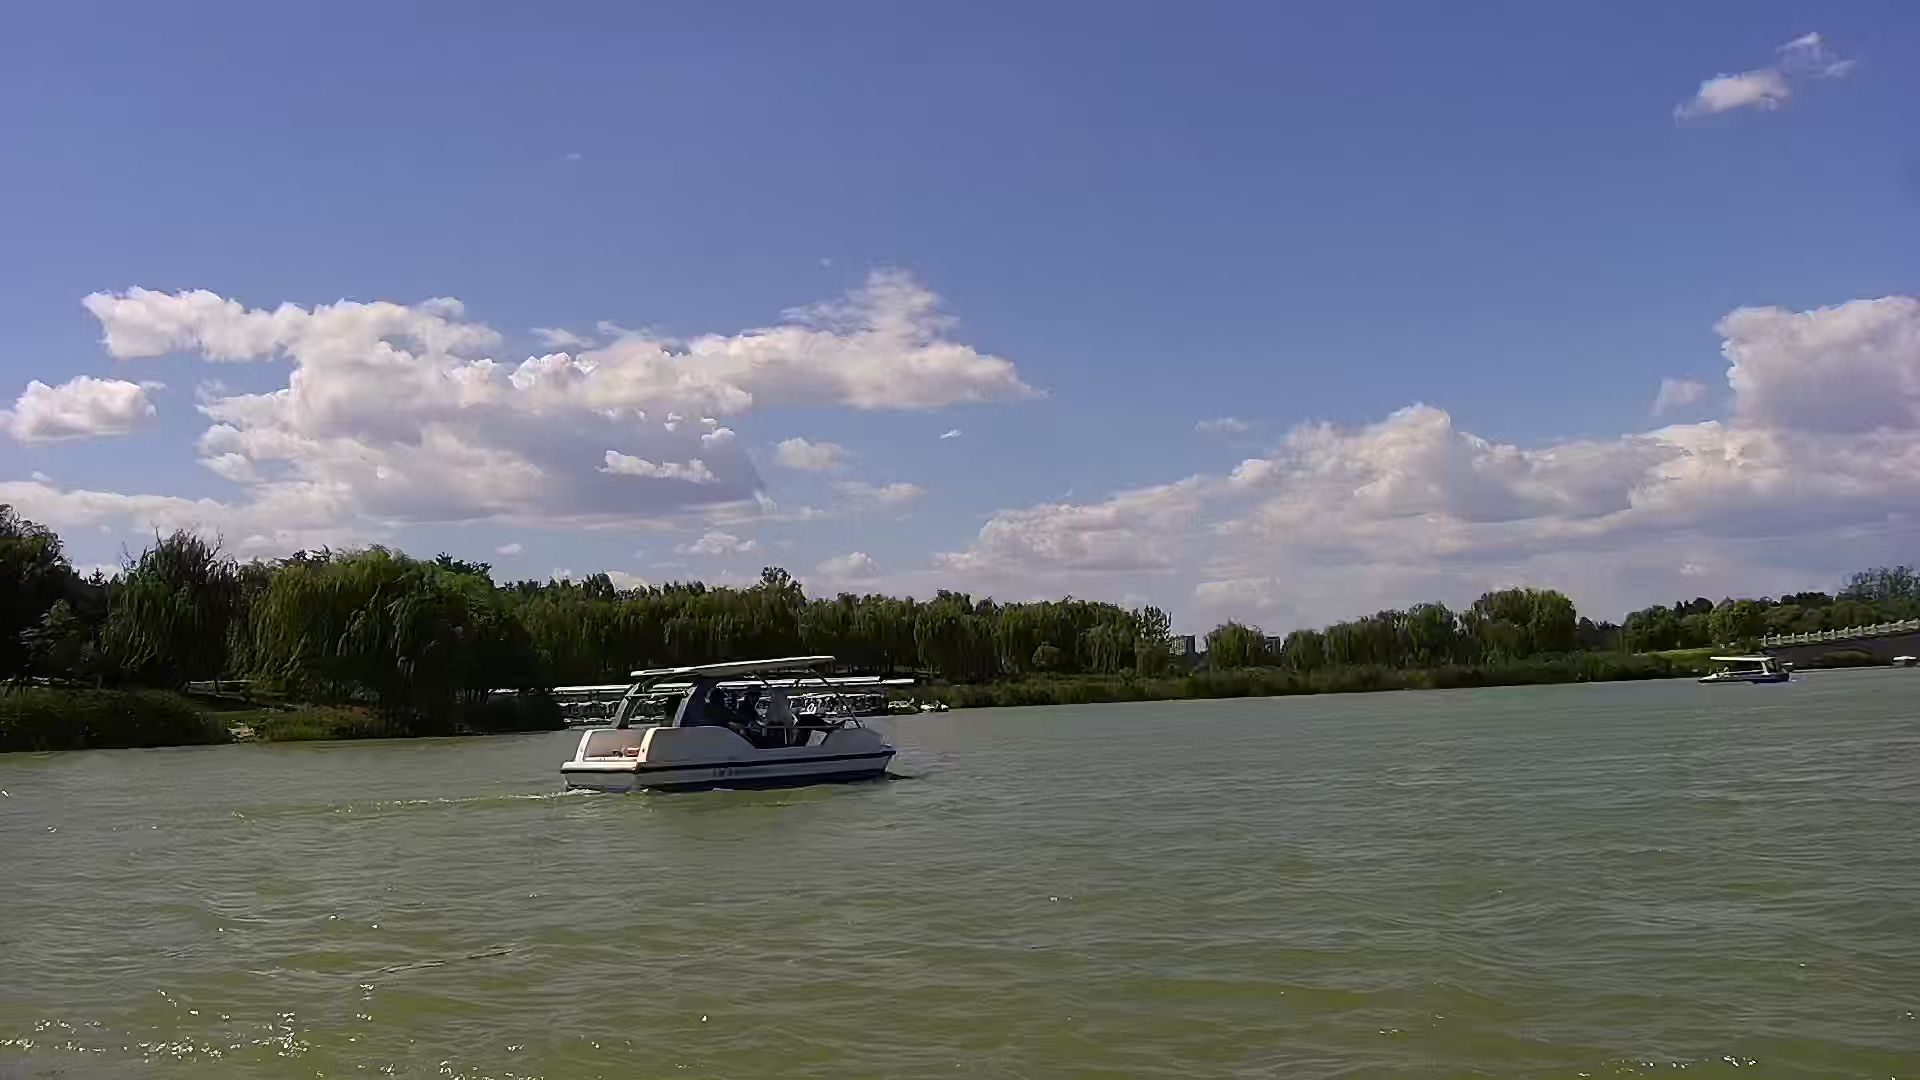boat: (560, 654, 919, 795), (1693, 647, 1795, 691)
